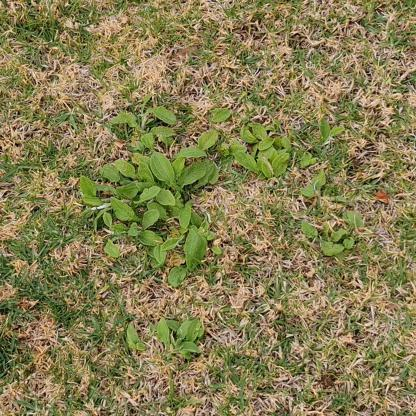Weeds: (80, 94, 346, 288), (301, 169, 365, 261), (126, 318, 205, 360)
